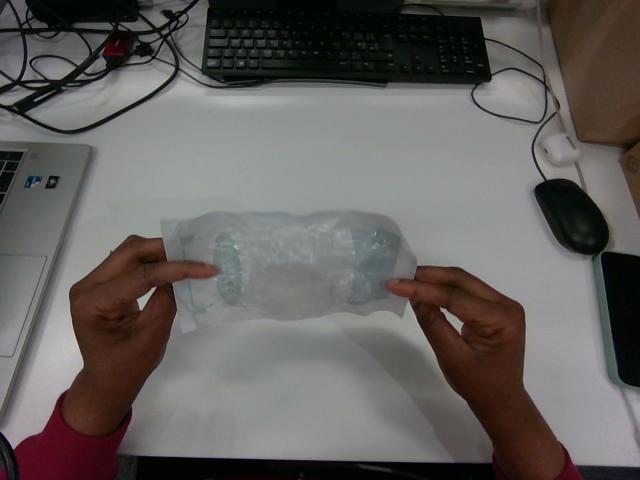gallipot: (161, 211, 415, 330)
